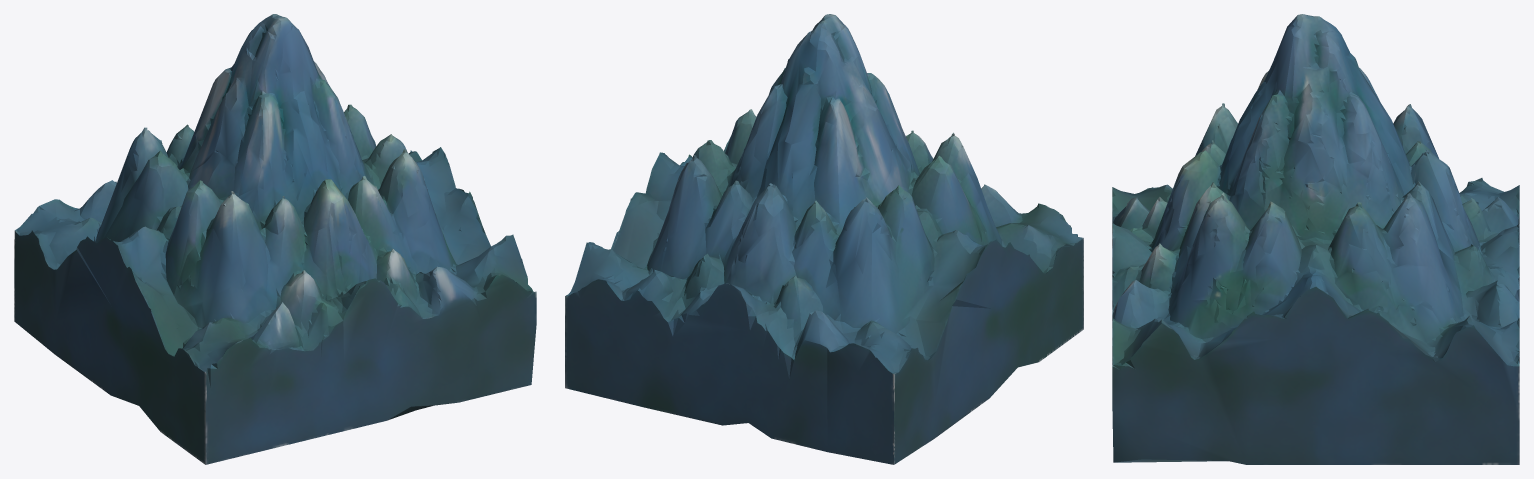
File: mountain.glb
3 views of the same model, side by side, from view 1: azimuth 30°, elevation 25°; view 2: azimuth 150°, elevation 25°; view 3: azimuth 270°, elevation 25° (orthographic). The views are drawn at different scales.
Visible parts, largest first — view 1: Rodin_bgmtn; view 2: Rodin_bgmtn; view 3: Rodin_bgmtn.
Part boxes in pixels (<box>): Rodin_bgmtn: <box>14,14,536,464</box>; Rodin_bgmtn: <box>565,14,1083,464</box>; Rodin_bgmtn: <box>1112,14,1519,464</box>.
Bounding box in the file's own units: 1.9 × 1.87 × 1.9.
1 material, 1 textured.
